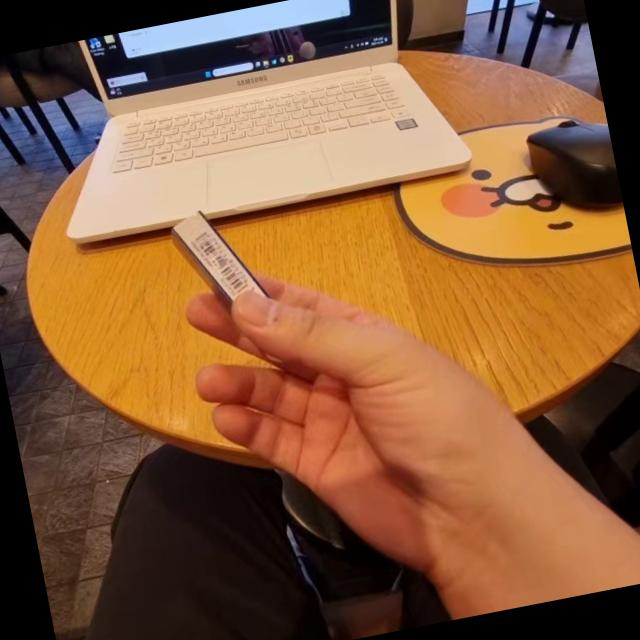eraser: (157, 190, 286, 360)
grab_eraser: (162, 158, 529, 620)
hand: (180, 250, 490, 550)
mouse: (517, 106, 627, 241)
